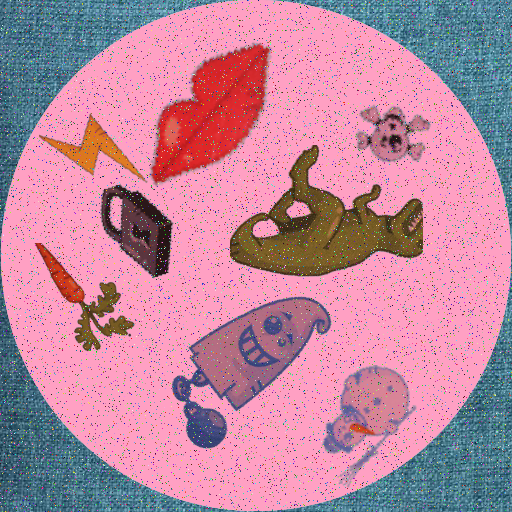carrot_icon: (16, 243, 139, 366)
dino_icon: (230, 145, 423, 338)
ghost_icon: (151, 264, 349, 462)
lightning_icon: (39, 98, 152, 211)
lips_icon: (131, 33, 306, 208)
lock_icon: (87, 181, 187, 281)
skull_icon: (348, 93, 432, 177)
snowman_icon: (305, 365, 430, 490)
